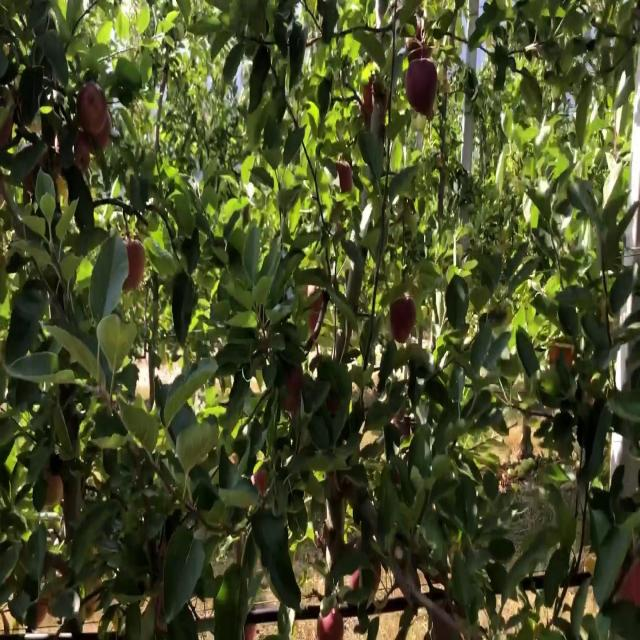apple: (76, 85, 112, 149), (408, 56, 439, 117), (392, 298, 417, 347), (124, 241, 147, 292), (304, 284, 326, 336), (360, 78, 383, 124), (284, 369, 304, 418), (76, 127, 96, 174), (624, 561, 640, 610), (408, 28, 431, 62), (152, 590, 168, 636), (44, 476, 65, 507), (336, 163, 354, 194), (392, 412, 412, 439), (552, 348, 575, 370), (252, 469, 269, 496), (4, 113, 15, 146), (328, 398, 340, 416)
